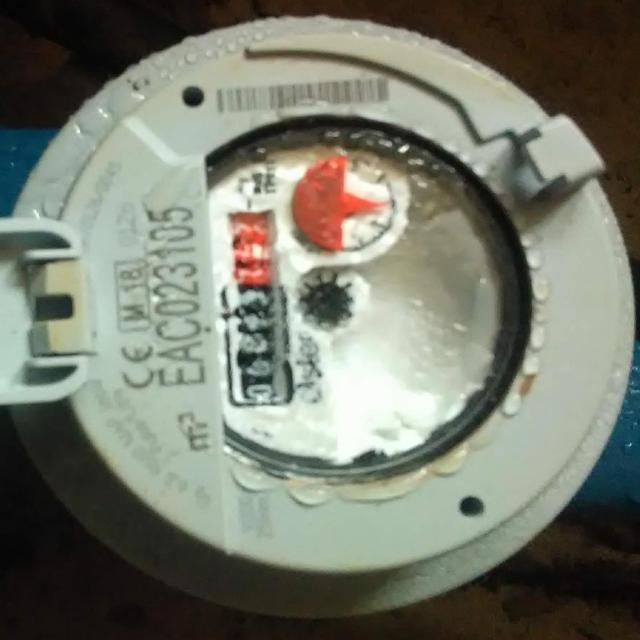gaz_meter: (188, 127, 524, 477)
indication: (221, 201, 293, 408)
